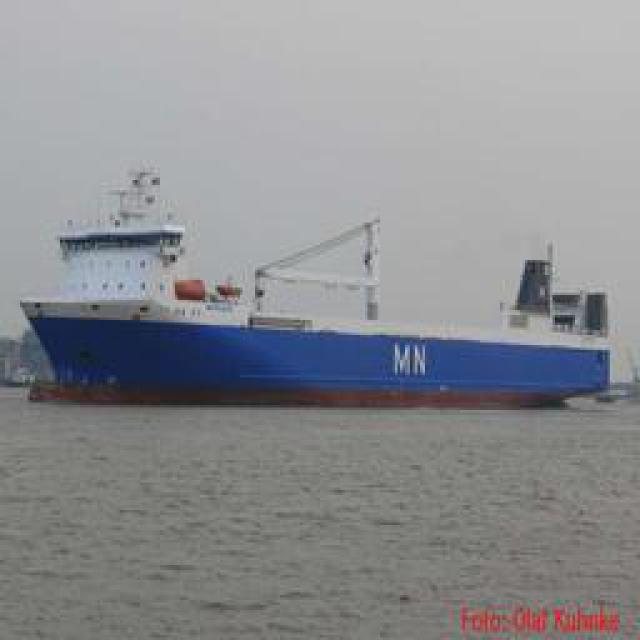Ship: (10, 223, 600, 411)
